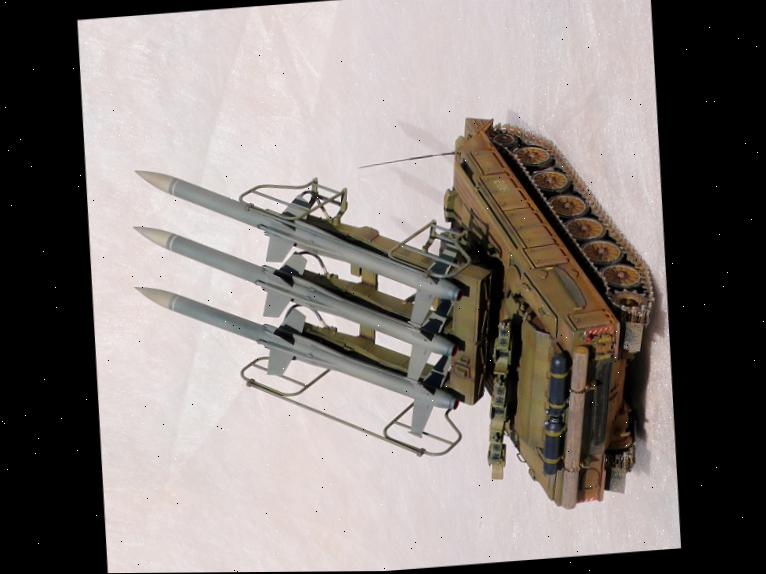armored_car: (110, 102, 678, 529)
